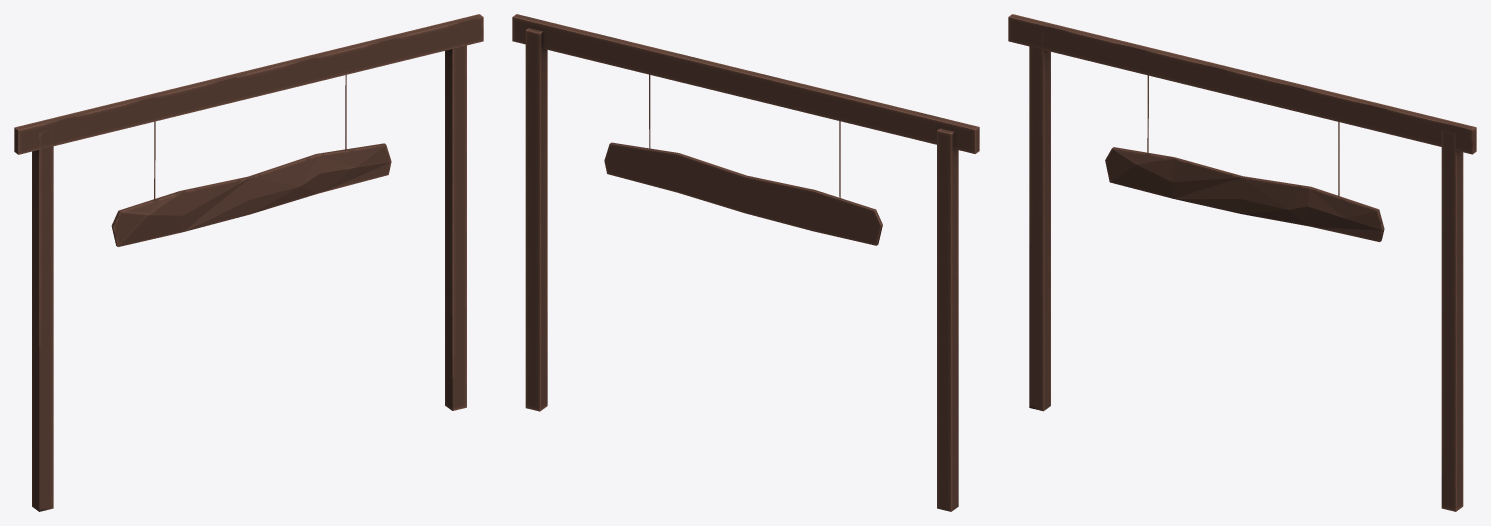
The model's file is Sign_1_(Animated).FBX.
The picture shows the model from 3 angles, left to right: view 1: azimuth 30°, elevation 25°; view 2: azimuth 150°, elevation 25°; view 3: azimuth 330°, elevation 25°; orthographic projection.
Visible parts, largest first — view 1: Box053, Sign_1_(Animated); view 2: Box053, Sign_1_(Animated); view 3: Box053, Sign_1_(Animated).
Boxes of the visible parts, x1,y1,x2,y2 form: Box053: (14,14,483,511); Sign_1_(Animated): (111,75,391,246); Box053: (512,14,979,511); Sign_1_(Animated): (604,74,882,245); Box053: (1008,14,1476,511); Sign_1_(Animated): (1105,75,1384,241).
Bounding box in the file's own units: 206 × 164 × 6.65.
